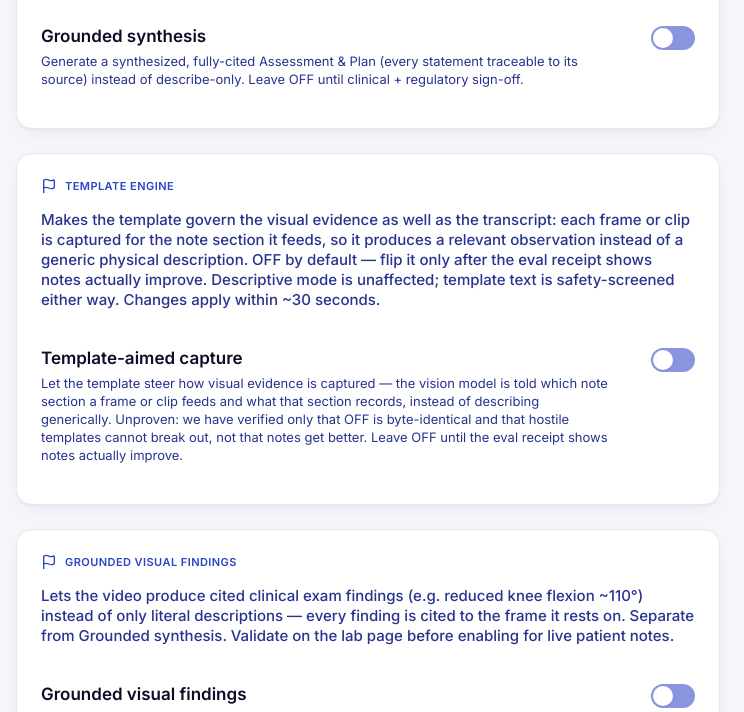
Test case: Feature Flags page — template engine toggle › saves the template engine flag without disturbing the others
Later steps or results of the test are not shown.
(page scrolled)
Click the switch named "Template-aimed capture": (673, 360) [651,348,695,372]
(page scrolled)
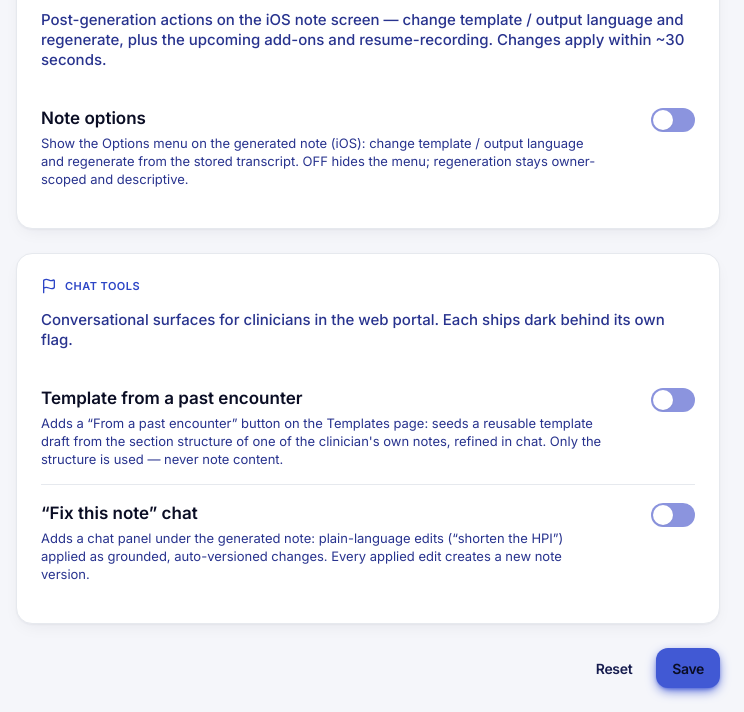
Result: the button "Save" is enabled at [656,648,720,688]
